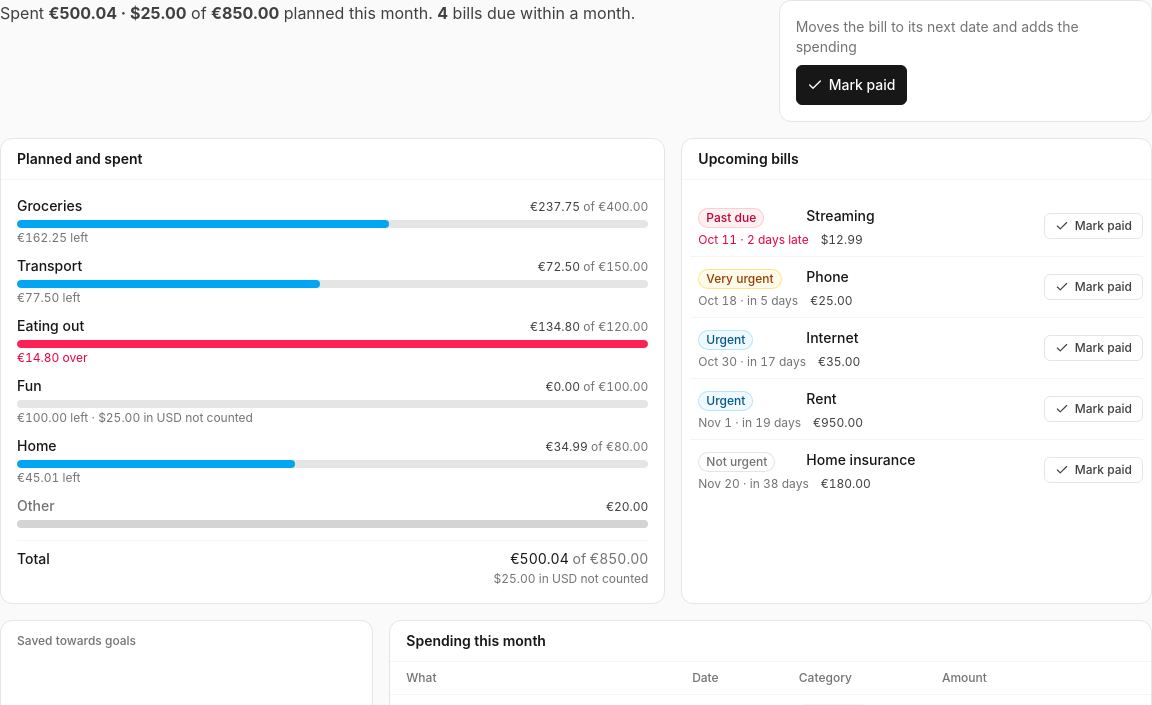
Test: Mark paid (Money) › a stale bill says so, keeps the form and sends again with the new revision and the same key
Click the button with aria-label "Mark paid: Rent" at (1093, 409), box [1044, 396, 1143, 422]
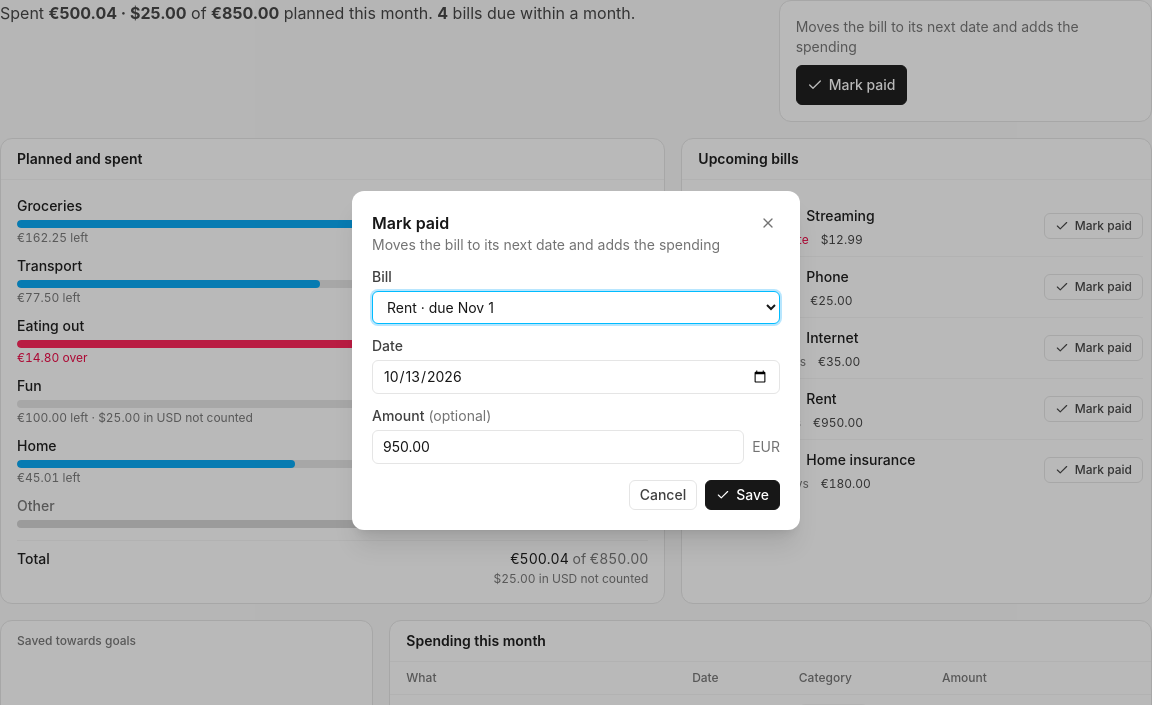
Click the button "Save" at (743, 494), box [705, 480, 780, 510]
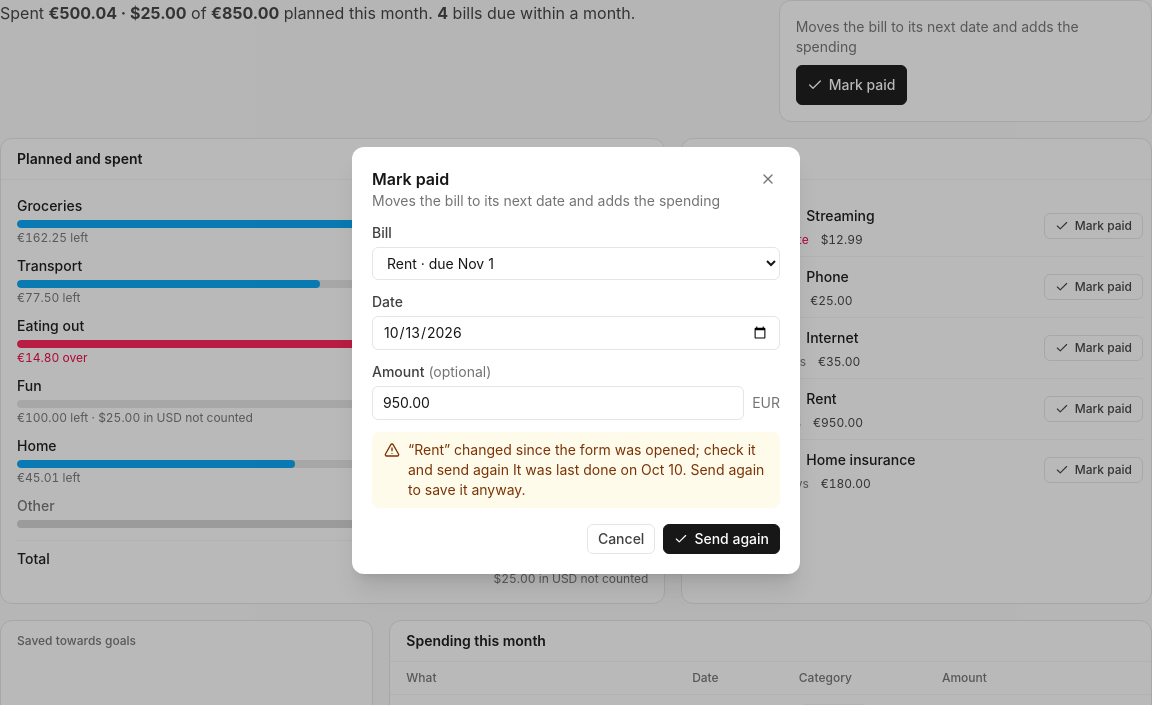
Click the button "Send again" at (722, 538), box [663, 524, 780, 554]
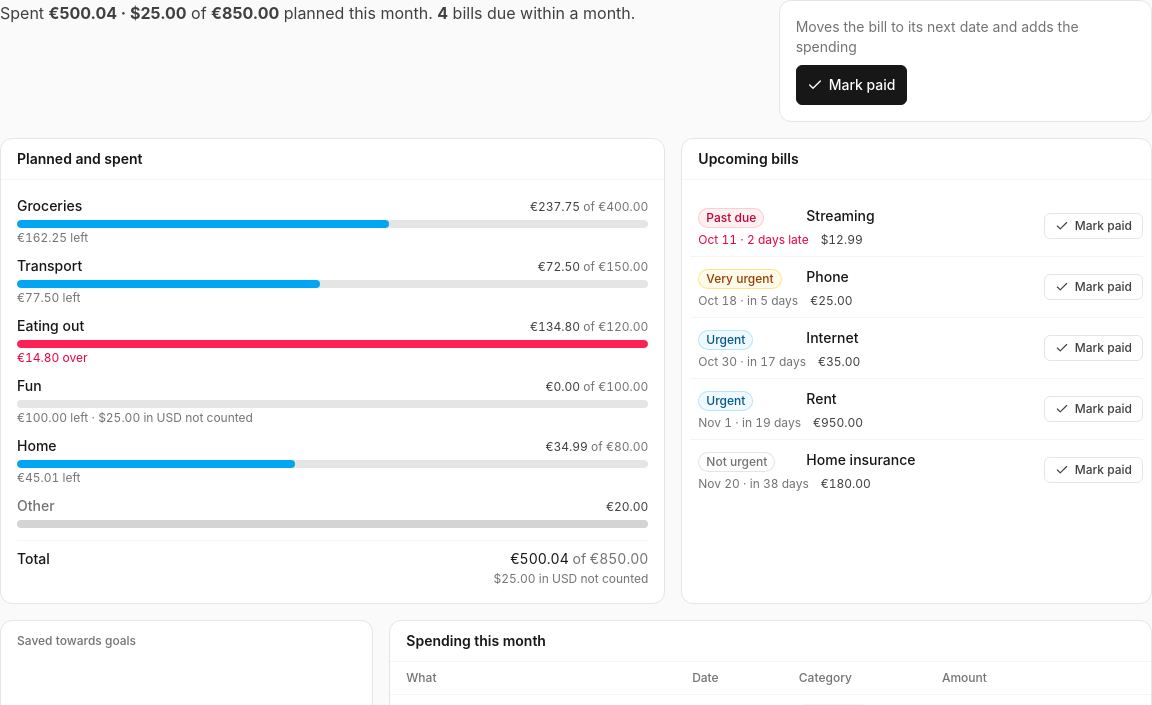
Expected: the dialog is gone
